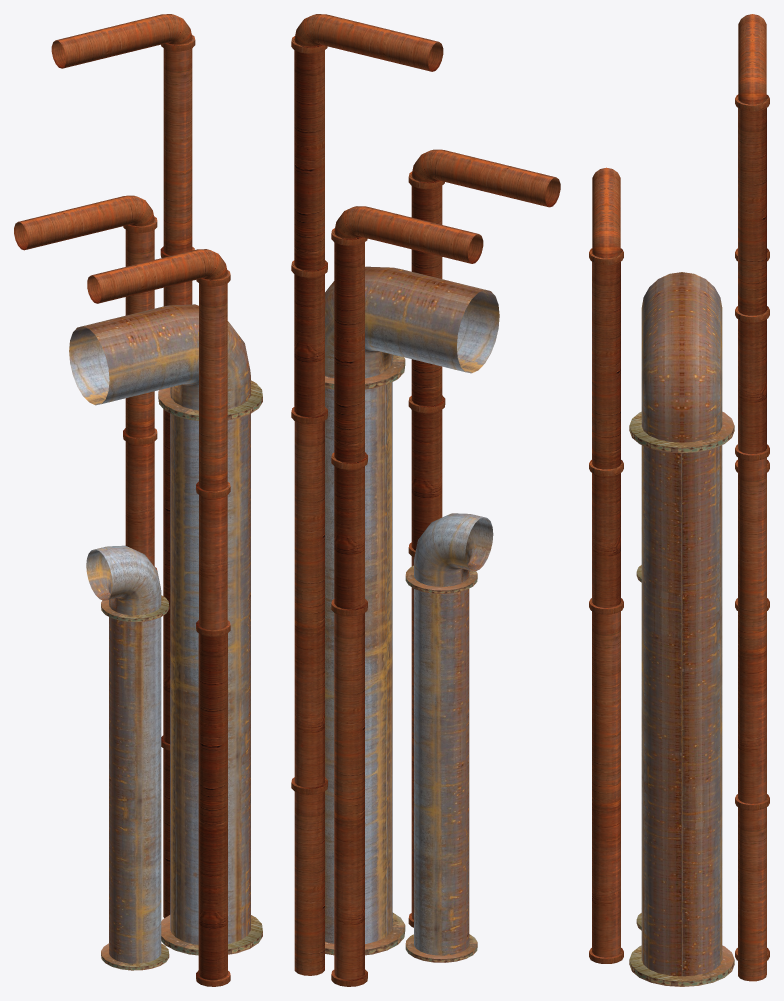
File: pipes_01.fbx
The picture shows the model from 3 angles, left to right: view 1: azimuth 30°, elevation 25°; view 2: azimuth 150°, elevation 25°; view 3: azimuth 270°, elevation 25°; orthographic projection. The views are drawn at different scales.
Visible parts, largest first — view 1: pipes_01; view 2: pipes_01; view 3: pipes_01.
Boxes of the visible parts, bbox=[...] form: pipes_01: bbox=[14, 14, 262, 986]; pipes_01: bbox=[291, 14, 560, 986]; pipes_01: bbox=[589, 14, 769, 986].
Size of the model in its own units: 1.97 by 8.55 by 1.55.
